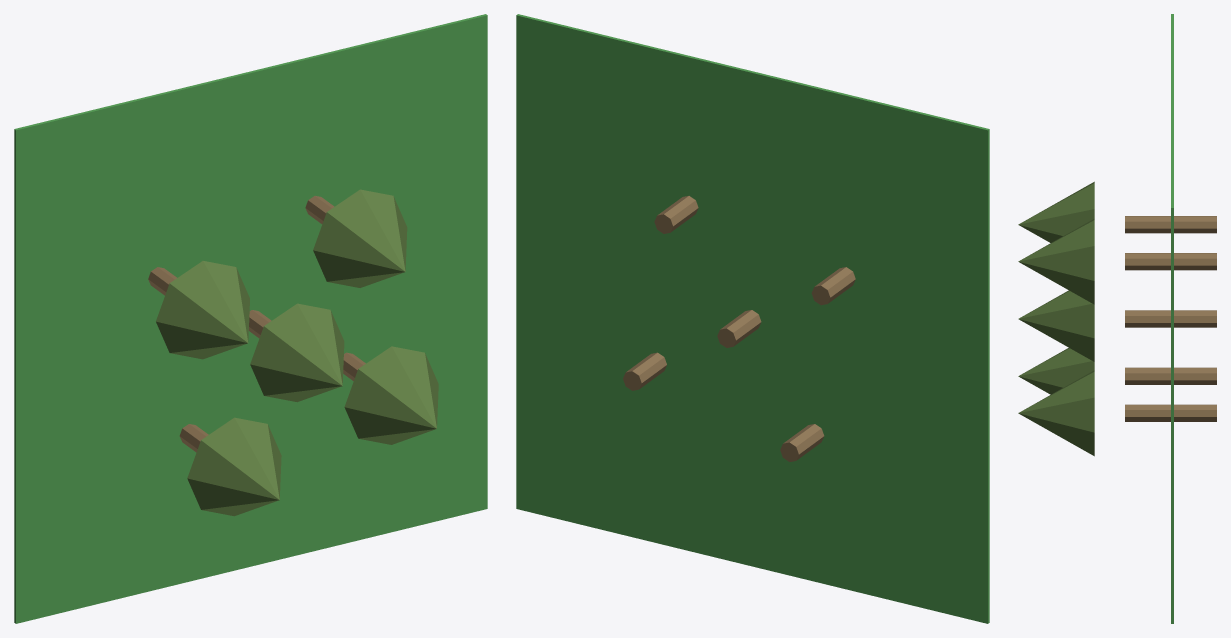
Rendered from forest.glb.
The picture shows the model from 3 angles, left to right: view 1: azimuth 30°, elevation 25°; view 2: azimuth 150°, elevation 25°; view 3: azimuth 270°, elevation 25°; orthographic projection. The views are drawn at different scales.
Visible parts, largest first — view 1: world; view 2: world; view 3: world.
Boxes of the visible parts, x1,y1,x2,y2 form: world: (14, 14, 487, 623); world: (516, 14, 989, 623); world: (1018, 14, 1216, 623).
Bounding box in the file's own units: 15 × 15 × 6.5.
